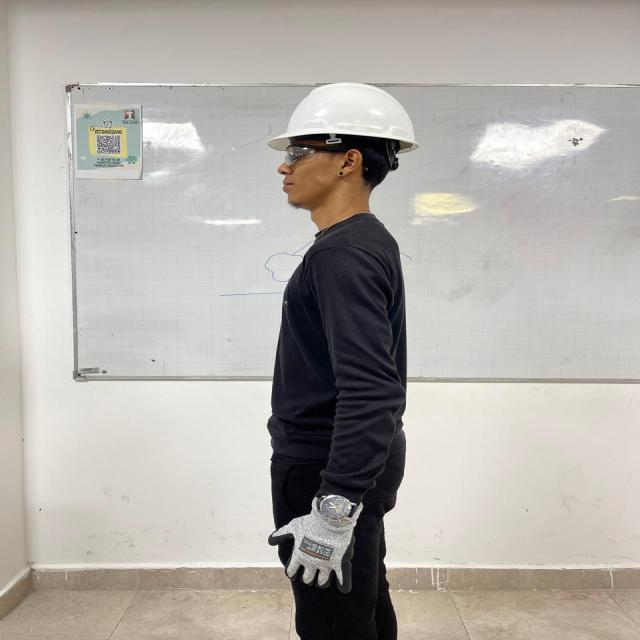gloves: (269, 497, 362, 591)
helmet: (268, 83, 419, 153)
protective_glasses: (282, 145, 362, 172)
